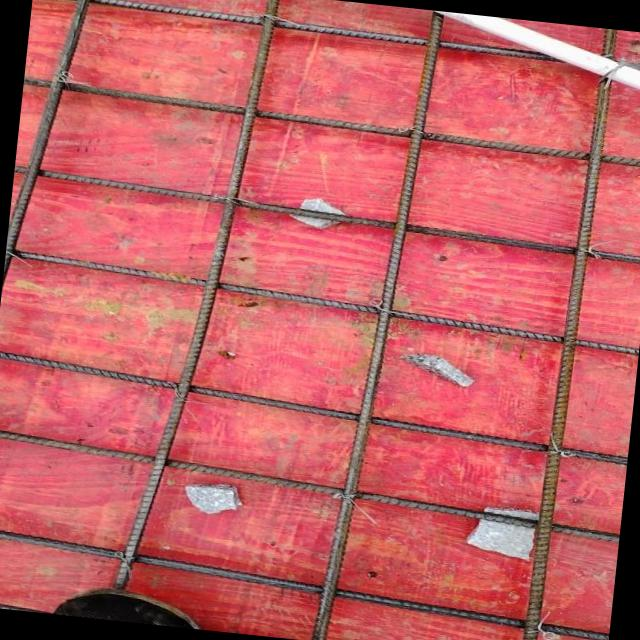ribbed bar: (106, 0, 295, 603), (308, 4, 448, 640), (0, 348, 632, 467), (0, 426, 623, 543), (0, 524, 613, 640), (2, 246, 640, 356), (12, 164, 640, 267), (518, 26, 621, 640), (22, 75, 640, 169), (32, 0, 640, 77), (7, 0, 99, 250)
